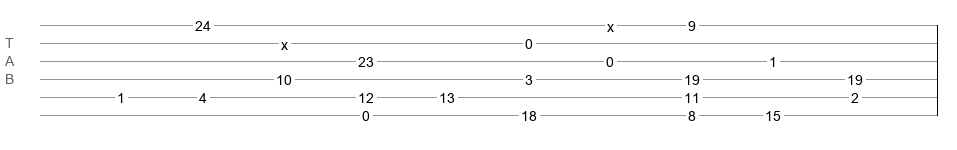0: (362, 108, 370, 118), (525, 36, 533, 46), (606, 54, 614, 64)
1: (117, 90, 125, 100), (769, 54, 777, 64)
10: (276, 72, 292, 82)
11: (684, 90, 700, 100)
12: (358, 90, 374, 100)
13: (439, 90, 455, 100)
15: (765, 108, 781, 118)
18: (521, 108, 537, 118)
19: (684, 72, 700, 82), (847, 72, 863, 82)
2: (851, 90, 859, 100)
23: (358, 54, 374, 64)
24: (195, 18, 211, 28)
3: (525, 72, 533, 82)
4: (199, 90, 207, 100)
8: (688, 108, 696, 118)
9: (688, 18, 696, 28)
x: (281, 37, 288, 45), (607, 19, 614, 27)
